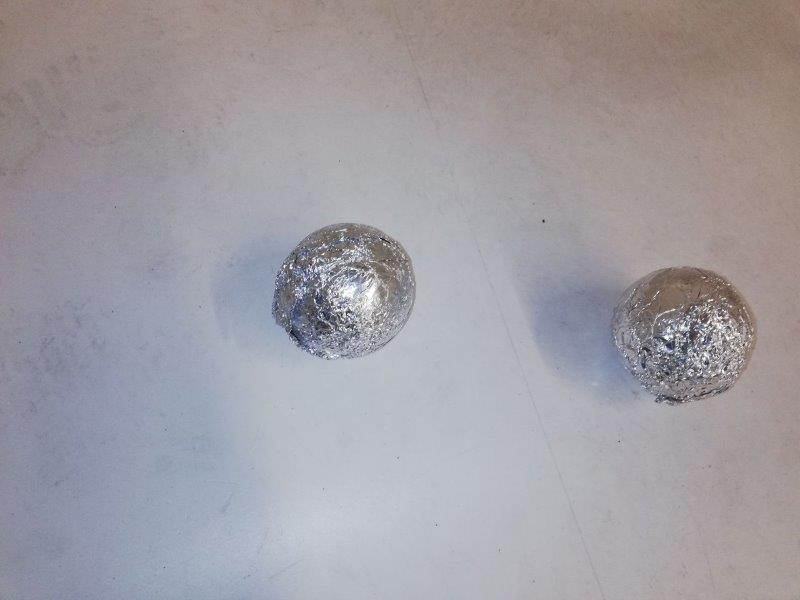bianca: (609, 262, 758, 404), (270, 217, 413, 360)
